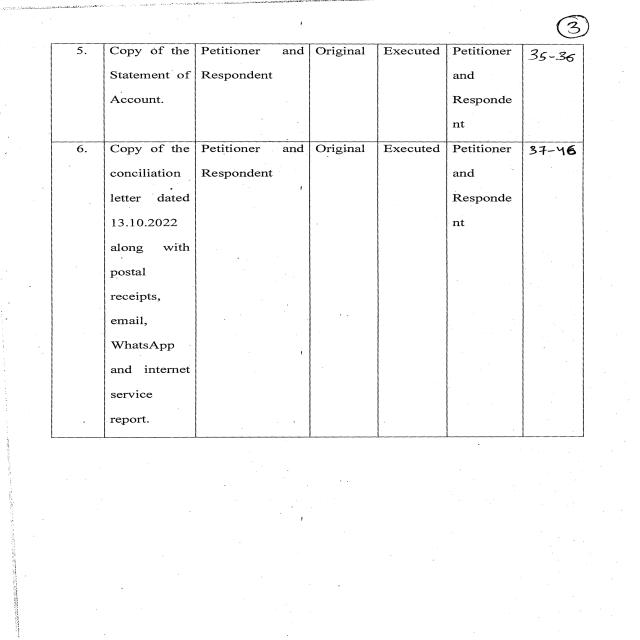page-number: (461, 0, 631, 41)
